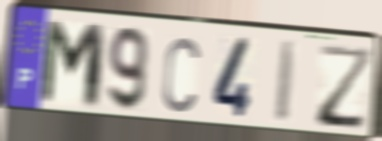4: (209, 34, 256, 124)
9: (105, 25, 151, 114)
C: (160, 33, 202, 115)
I: (273, 39, 299, 127)
M: (37, 17, 108, 114)
Z: (316, 43, 375, 133)
